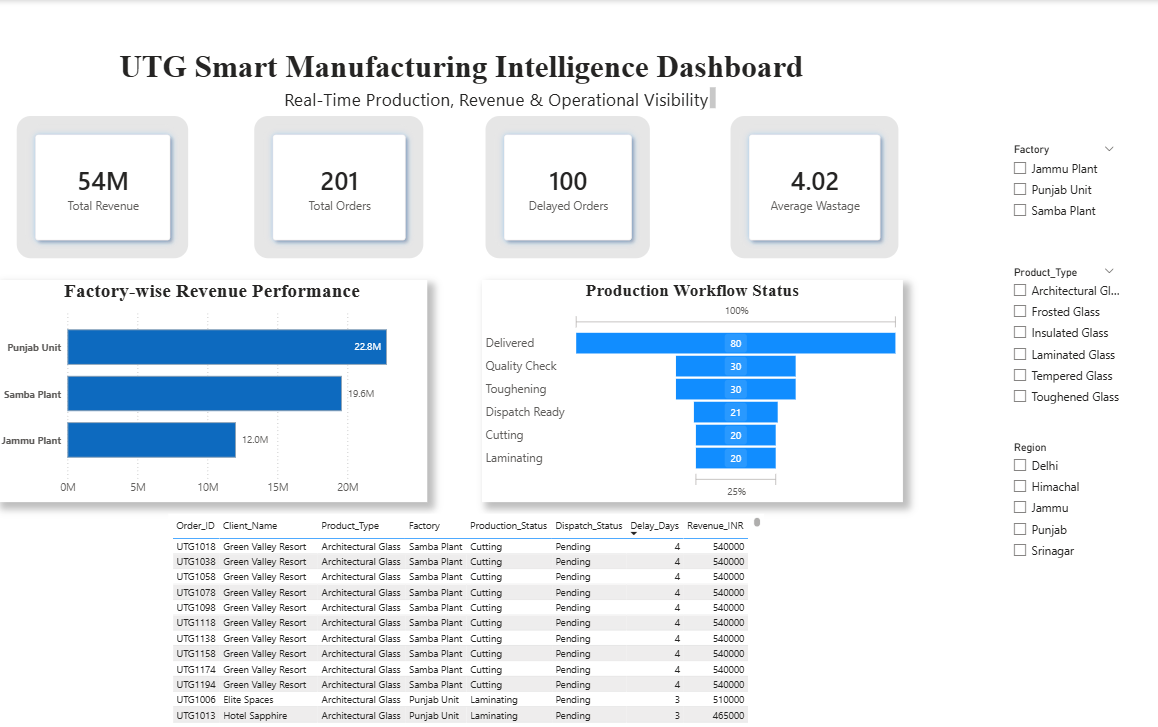

Layout of this report page (visuals, bound fields, positions):
{"tool":"powerbi","page":{"name":"Page 1","canvas":[1600,1000],"ordinal":0},"visuals":[{"type":"cardVisual","fields":{"Data":["Master_Data.Total Revenue"]},"box":[22.5,155,245,205],"z":0},{"type":"cardVisual","fields":{"Data":["Master_Data.Total Orders"]},"box":[347.5,155,242.5,205],"z":1000},{"type":"cardVisual","fields":{"Data":["Master_Data.Delayed Orders"]},"box":[665,155,235,205],"z":2000},{"type":"cardVisual","fields":{"Data":["Master_Data.Average Wastage"]},"box":[1002.5,155,240,205],"z":3000},{"type":"clusteredBarChart","title":"Factory-wise Revenue Performance","fields":{"Category":["Orders_Data.Factory"],"Y":["Sum(Orders_Data.Revenue_INR)"]},"box":[0,385,590,305],"z":4000},{"type":"funnel","title":"Production Workflow Status","fields":{"Category":["Orders_Data.Production_Status"],"Y":["CountNonNull(Orders_Data.Order_ID)"]},"box":[665,385,577.5,305],"z":5000},{"type":"tableEx","title":"UTG Smart Manufacturing Intelligence Dashboard","fields":{"Values":["Orders_Data.Order_ID","Orders_Data.Client_Name","Orders_Data.Product_Type","Orders_Data.Factory","Orders_Data.Production_Status","Orders_Data.Dispatch_Status","Sum(Orders_Data.Delay_Days)","Sum(Orders_Data.Revenue_INR)"]},"box":[235,705,817.5,295],"z":6000},{"type":"textbox","box":[162.5,62.5,957.5,65],"z":7000},{"type":"slicer","fields":{"Values":["Orders_Data.Factory"]},"box":[1382.5,192.5,162.5,130],"z":8000},{"type":"slicer","fields":{"Values":["Orders_Data.Product_Type"]},"box":[1382.5,360,162.5,215],"z":9000},{"type":"slicer","fields":{"Values":["Orders_Data.Region"]},"box":[1382.5,600,162.5,180],"z":10000},{"type":"textbox","box":[390,115,601.7,40],"z":11000}]}

Visuals, with their boxes on the page's 1600x1000 design canvas (x1, y1, x2, y2). These are canvas units, not pixel positions in the 1158x727 screenshot, which may show the page scaled, cropped or inside an application window:
cardVisual - Master_Data.Total Revenue: [x1=22, y1=155, x2=268, y2=360]
cardVisual - Master_Data.Total Orders: [x1=348, y1=155, x2=590, y2=360]
cardVisual - Master_Data.Delayed Orders: [x1=665, y1=155, x2=900, y2=360]
cardVisual - Master_Data.Average Wastage: [x1=1002, y1=155, x2=1242, y2=360]
"Factory-wise Revenue Performance" clusteredBarChart: [x1=0, y1=385, x2=590, y2=690]
"Production Workflow Status" funnel: [x1=665, y1=385, x2=1242, y2=690]
"UTG Smart Manufacturing Intelligence Dashboard" tableEx: [x1=235, y1=705, x2=1052, y2=1000]
textbox: [x1=162, y1=62, x2=1120, y2=128]
slicer - Orders_Data.Factory: [x1=1382, y1=192, x2=1545, y2=322]
slicer - Orders_Data.Product_Type: [x1=1382, y1=360, x2=1545, y2=575]
slicer - Orders_Data.Region: [x1=1382, y1=600, x2=1545, y2=780]
textbox: [x1=390, y1=115, x2=992, y2=155]
